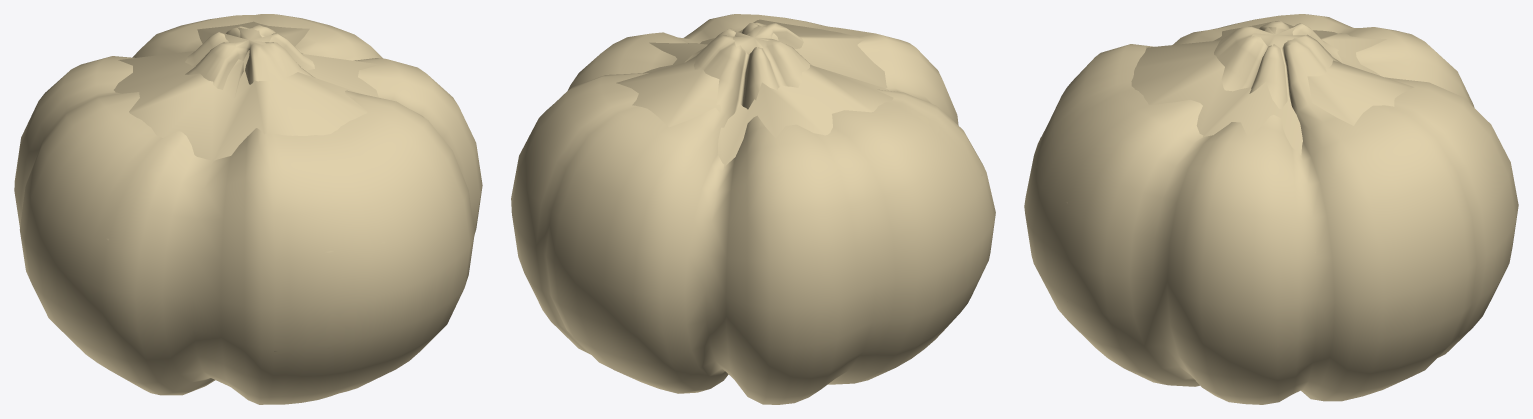
The model's file is Garlic_02.dae.
The picture shows the model from 3 angles, left to right: view 1: azimuth 30°, elevation 25°; view 2: azimuth 150°, elevation 25°; view 3: azimuth 270°, elevation 25°; orthographic projection.
Parts seen in each view (by area): view 1: Garlic_02_LOD0, Garlic_023; view 2: Garlic_02_LOD0, Garlic_023; view 3: Garlic_02_LOD0, Garlic_023.
Boxes of the visible parts, x1,y1,x2,y2 form: Garlic_02_LOD0: (14,14,482,404); Garlic_023: (46,21,448,351); Garlic_02_LOD0: (511,14,995,404); Garlic_023: (616,19,982,208); Garlic_02_LOD0: (1024,14,1518,404); Garlic_023: (1036,21,1413,350).
Size of what is drawn, in the model's own units: 4.5 by 4.57 by 3.38.
